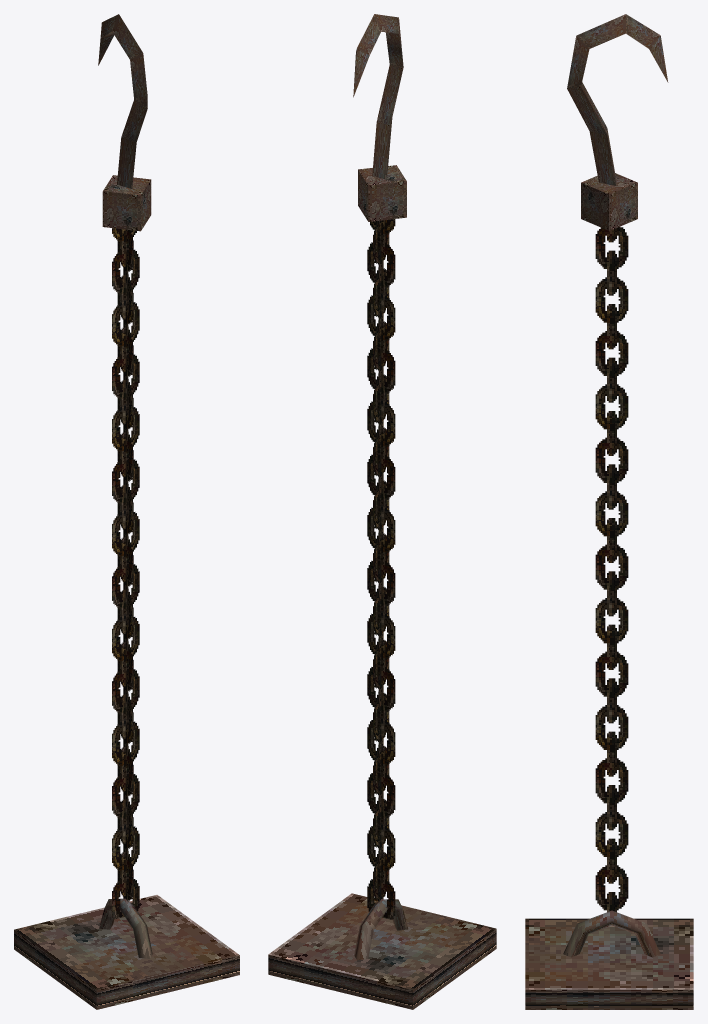
The model's file is single_hook.fbx.
3 views of the same model, side by side, from view 1: azimuth 30°, elevation 25°; view 2: azimuth 150°, elevation 25°; view 3: azimuth 270°, elevation 25° (orthographic).
Parts seen in each view (by area): view 1: mesh_0, mesh_2, mesh_1, mesh_4, mesh_3; view 2: mesh_0, mesh_2, mesh_1, mesh_4, mesh_3; view 3: mesh_1, mesh_0, mesh_4, mesh_3.
Part boxes in pixels (x1,y1,x2,y2): mesh_0: (14, 895, 239, 1009); mesh_2: (112, 228, 139, 919); mesh_1: (117, 229, 133, 901); mesh_4: (98, 14, 147, 188); mesh_3: (102, 175, 151, 231); mesh_0: (268, 893, 496, 1009); mesh_2: (367, 219, 395, 919); mesh_1: (373, 220, 389, 902); mesh_4: (353, 14, 403, 179); mesh_3: (358, 165, 406, 221); mesh_1: (595, 227, 628, 912); mesh_0: (525, 910, 693, 1009); mesh_4: (567, 14, 668, 185); mesh_3: (581, 173, 637, 230).
Bounding box in the file's own units: 20.18 × 127 × 20.18.
1 material, 1 textured.
